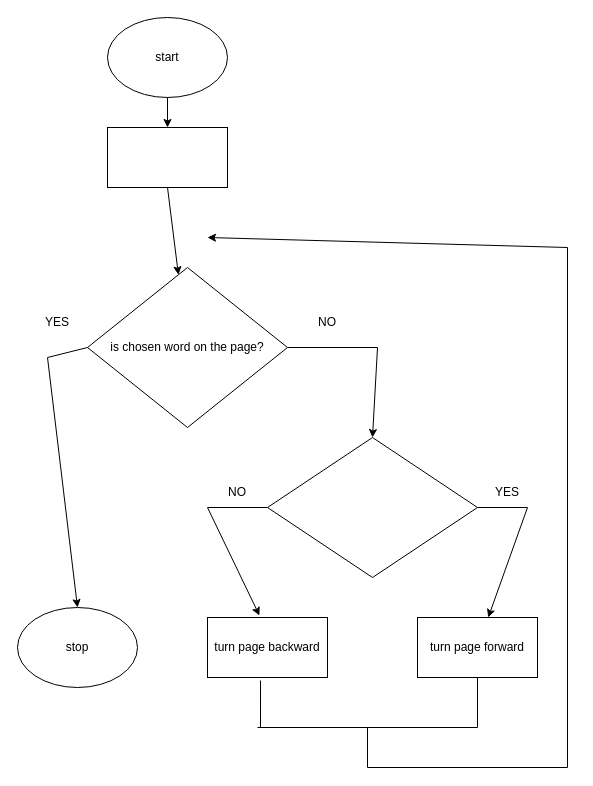
Some shapes in this 593 by 786 pixel diagram are drawn without their labels. Here are the shapes that lost their labels. From the top down, the centre of each, then its label:
At point (167, 157): "open dictionary to random page".
At point (372, 507): "is word < last word on the page?".
